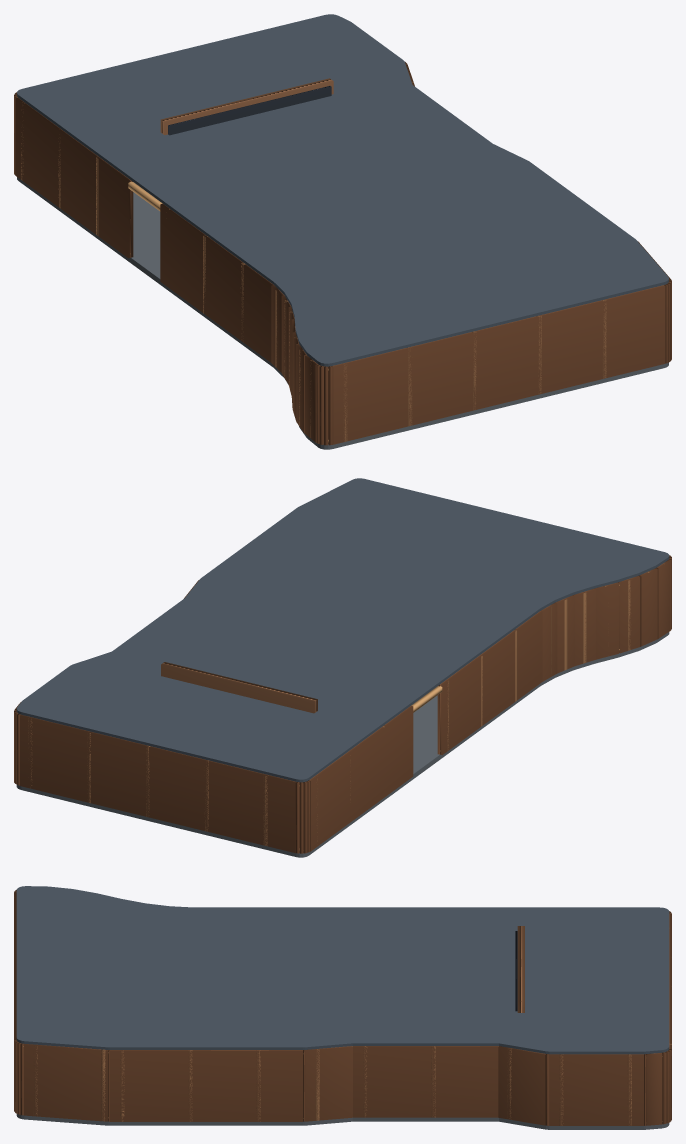
File: Media_Nexus.glb
3 views of the same model, one above another, from view 1: azimuth 30°, elevation 25°; view 2: azimuth 150°, elevation 25°; view 3: azimuth 270°, elevation 25° (orthographic). The views are drawn at different scales.
Visible parts, largest first — view 1: Ceiling_panel, Wall (×7), Media_Nexus_floor, Media_Screen, Cinema_frame; view 2: Ceiling_panel, Wall (×10), Media_Nexus_floor, Cinema_frame; view 3: Ceiling_panel, Wall (×9), Media_Nexus_floor, Cinema_frame.
Boxes of the visible parts, x1,y1,x2,y2 form: Ceiling_panel: (17, 14, 668, 366); Wall (×7): (15, 98, 665, 444); Media_Nexus_floor: (17, 177, 668, 449); Media_Screen: (168, 86, 331, 135); Cinema_frame: (160, 78, 333, 135); Ceiling_panel: (16, 478, 669, 782); Wall (×10): (20, 560, 670, 852); Media_Nexus_floor: (16, 632, 669, 857); Cinema_frame: (161, 662, 317, 713); Ceiling_panel: (16, 886, 669, 1054); Wall (×9): (14, 892, 671, 1125); Media_Nexus_floor: (16, 1046, 669, 1129); Cinema_frame: (517, 926, 524, 1012).
Size of the model in its own units: 16.3 by 4.08 by 27.02.
